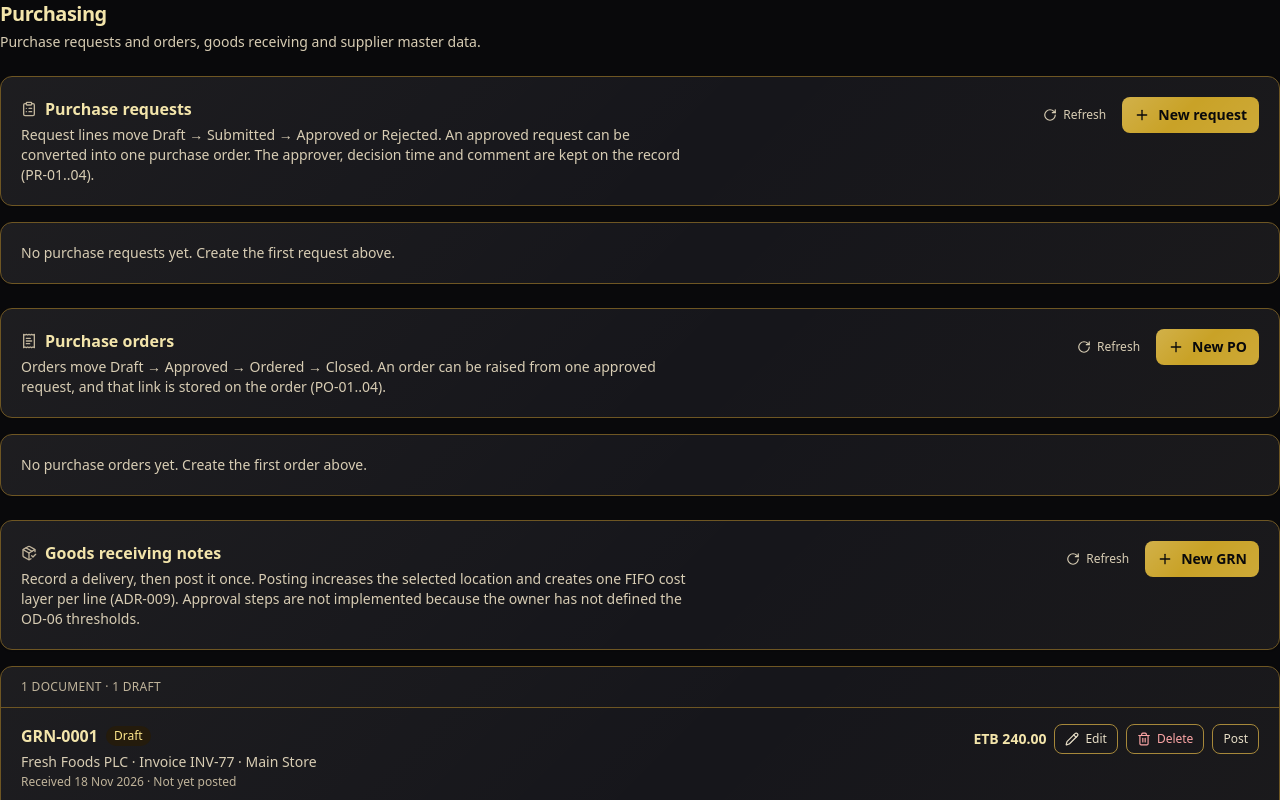
Test: Purchasing - goods receiving › prefills a draft GRN and updates it through the update RPC
Step 1. Click the button with aria-label "edit grn grn-0001" → coordinates (1086, 739), box [1054,724,1118,754]
(page scrolled)
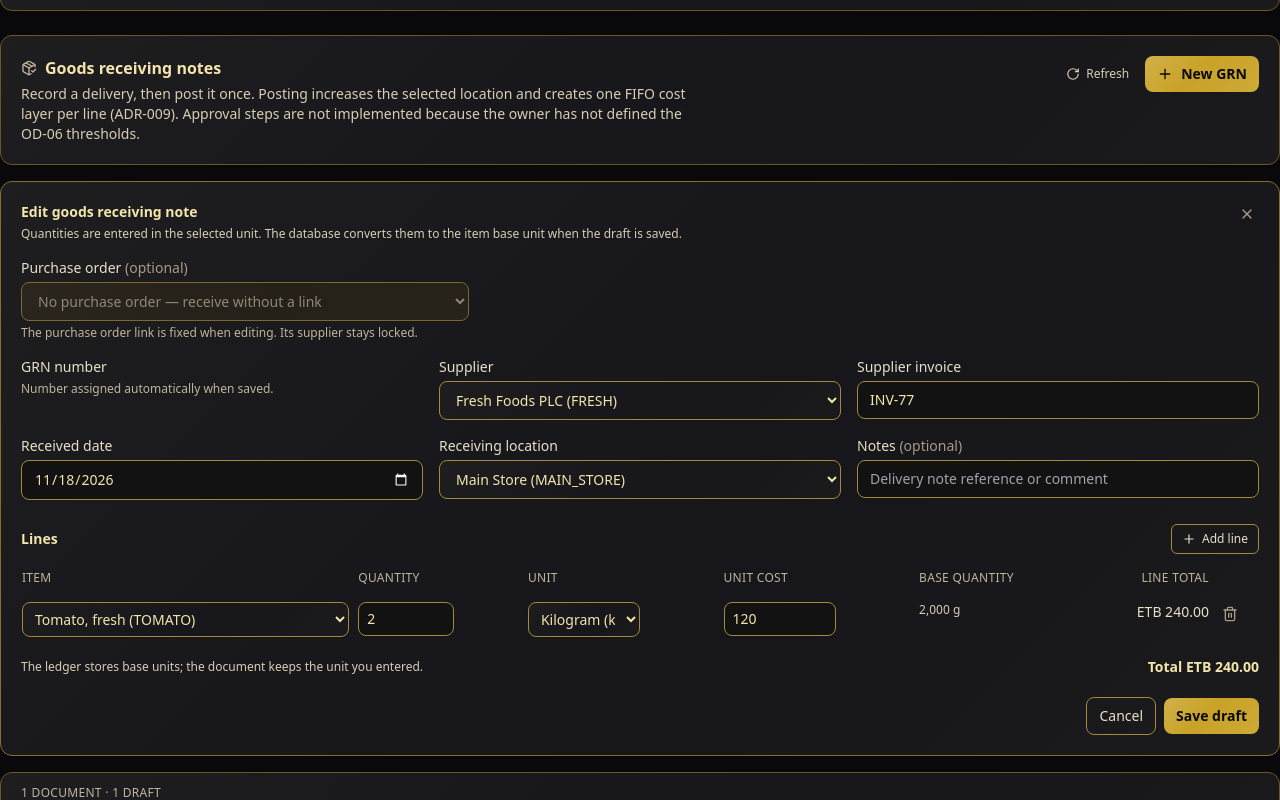
Result: the heading "Edit goods receiving note" is shown at [21,202,198,221]
Result: the field labelled "Supplier invoice" holds "INV-77"
Result: the field named "Quantity for line 1" holds "2" at [358,602,454,636]
Step 2. Replace the text in the field labelled "Supplier invoice" with "INV-78" → coordinates (1058, 400), box [857,381,1259,419]
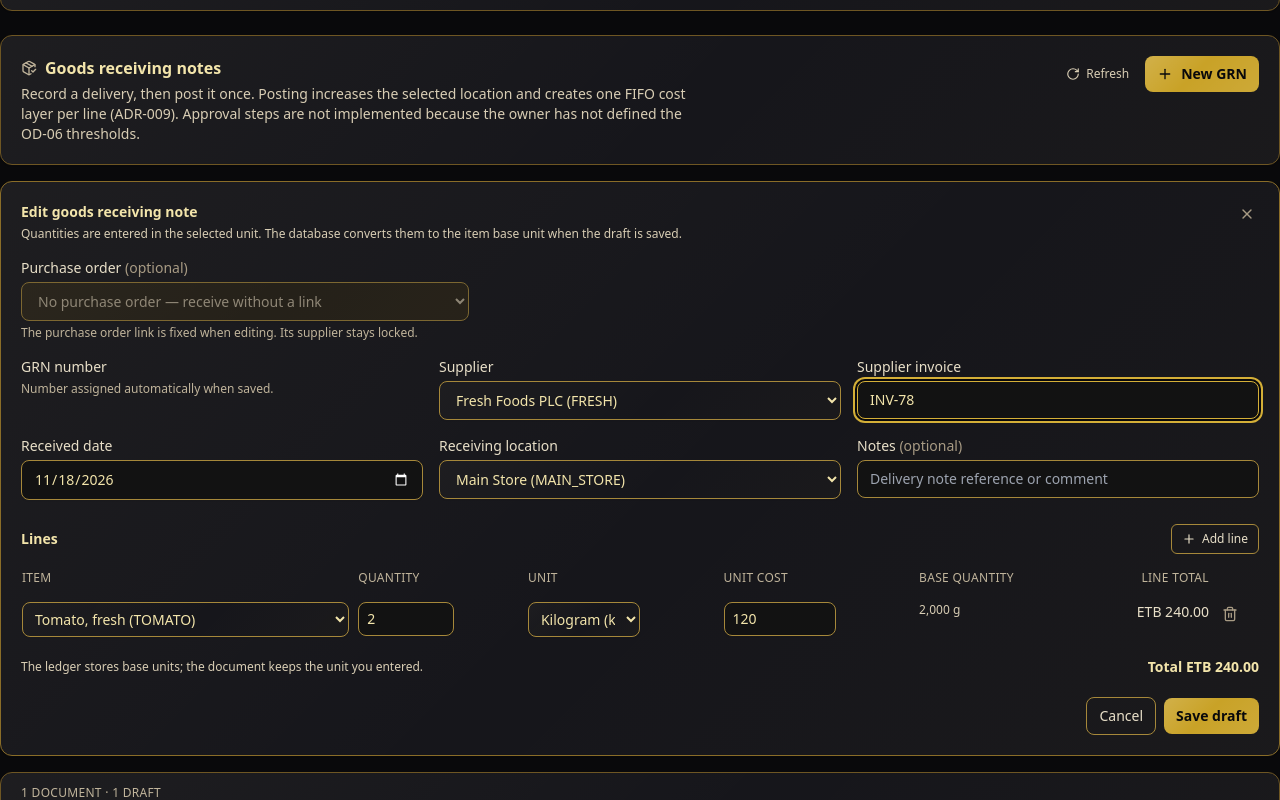
Step 3. Clear the field named "Quantity for line 1" → coordinates (406, 619), box [358,602,454,636]
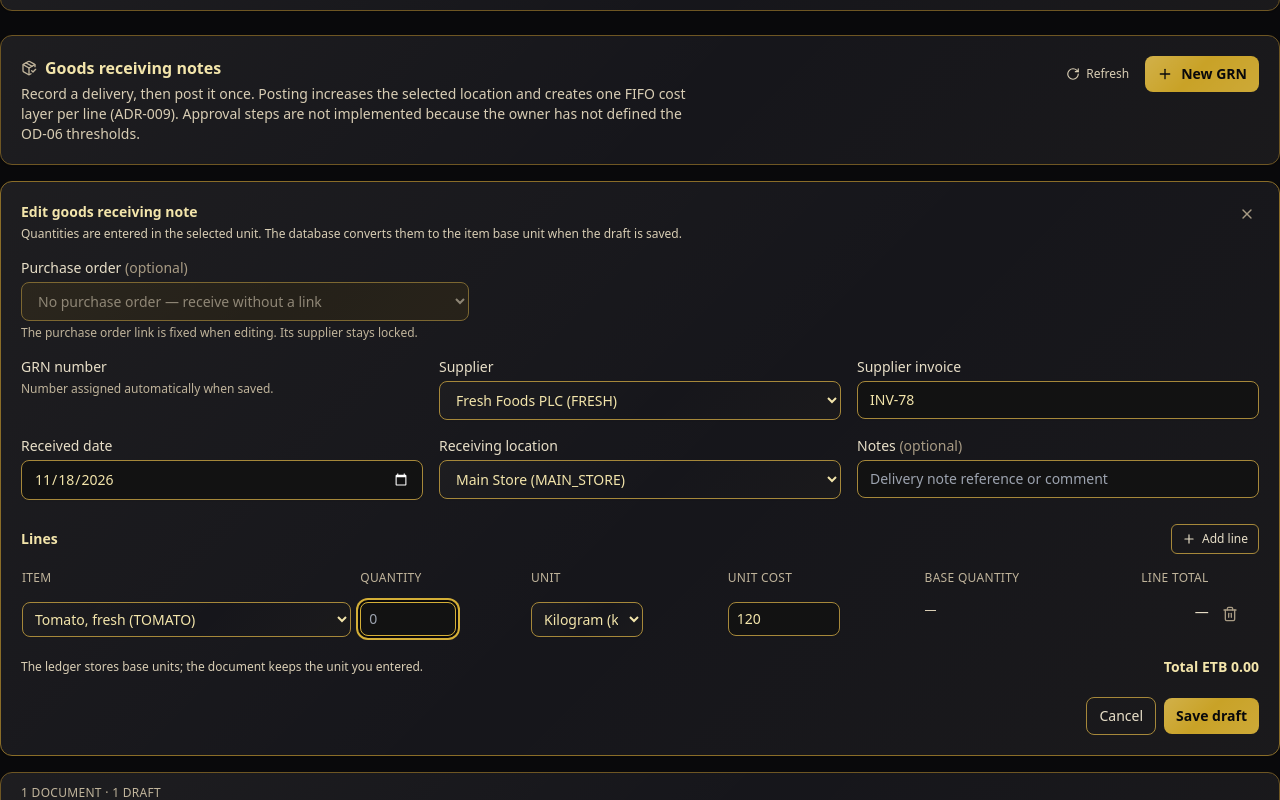
Step 4. Type "3" into the field named "Quantity for line 1" → coordinates (408, 619), box [360,602,456,636]
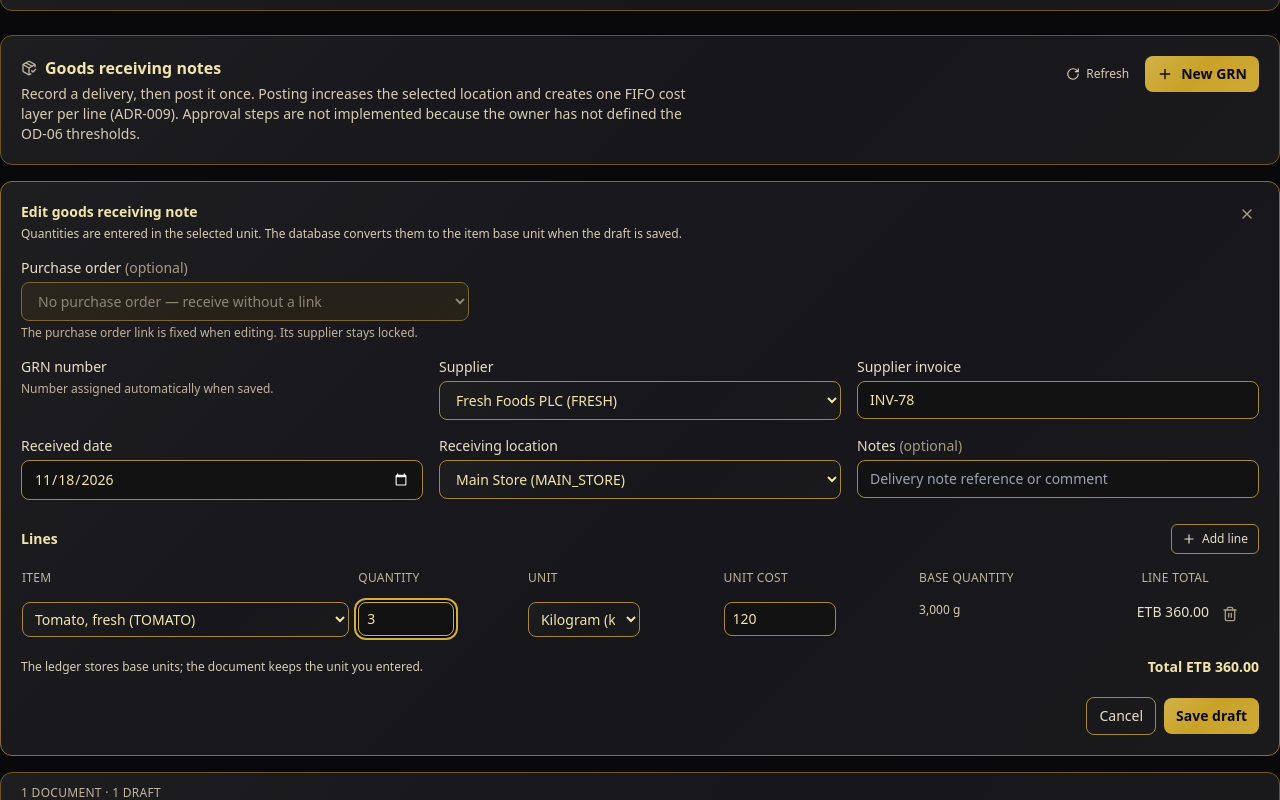
Step 5. Click the button "Save draft" → coordinates (1212, 716), box [1164,698,1259,734]
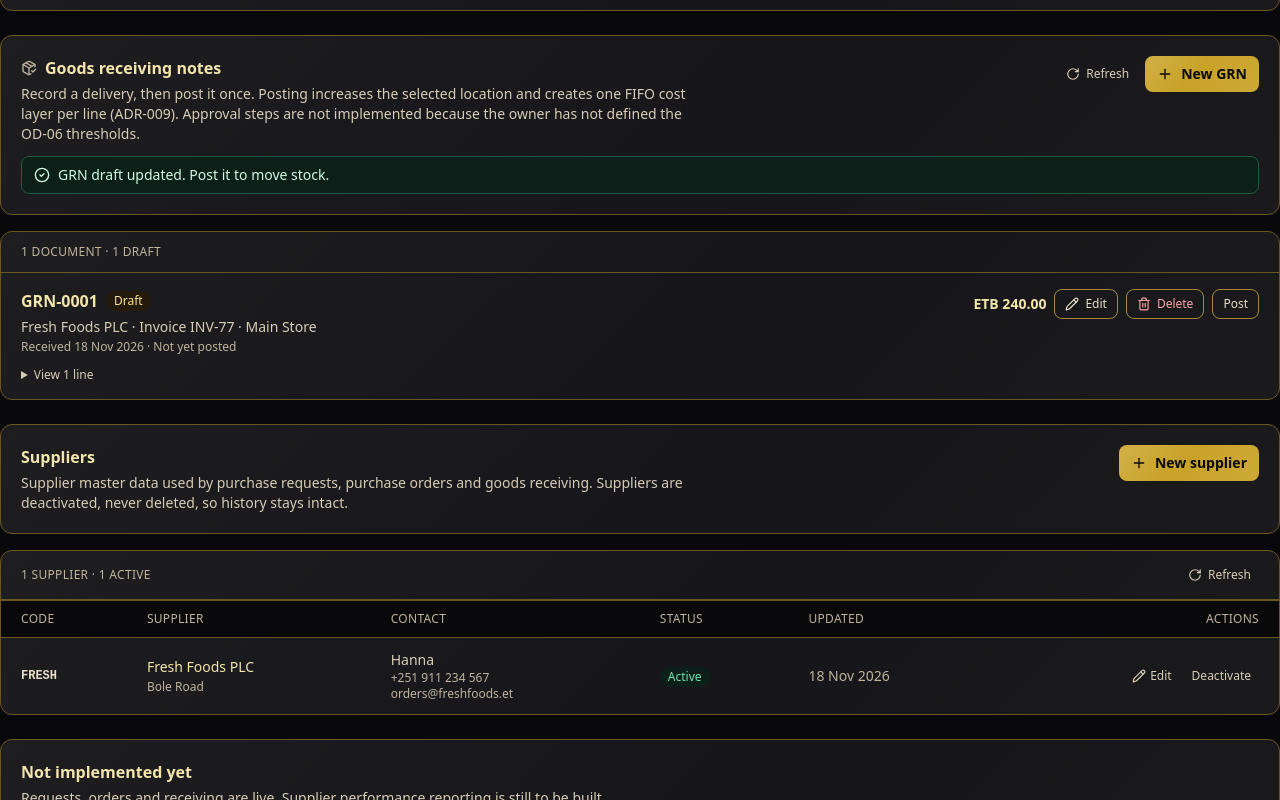
Result: the message shows "GRN draft updated" at [58,165,329,184]
